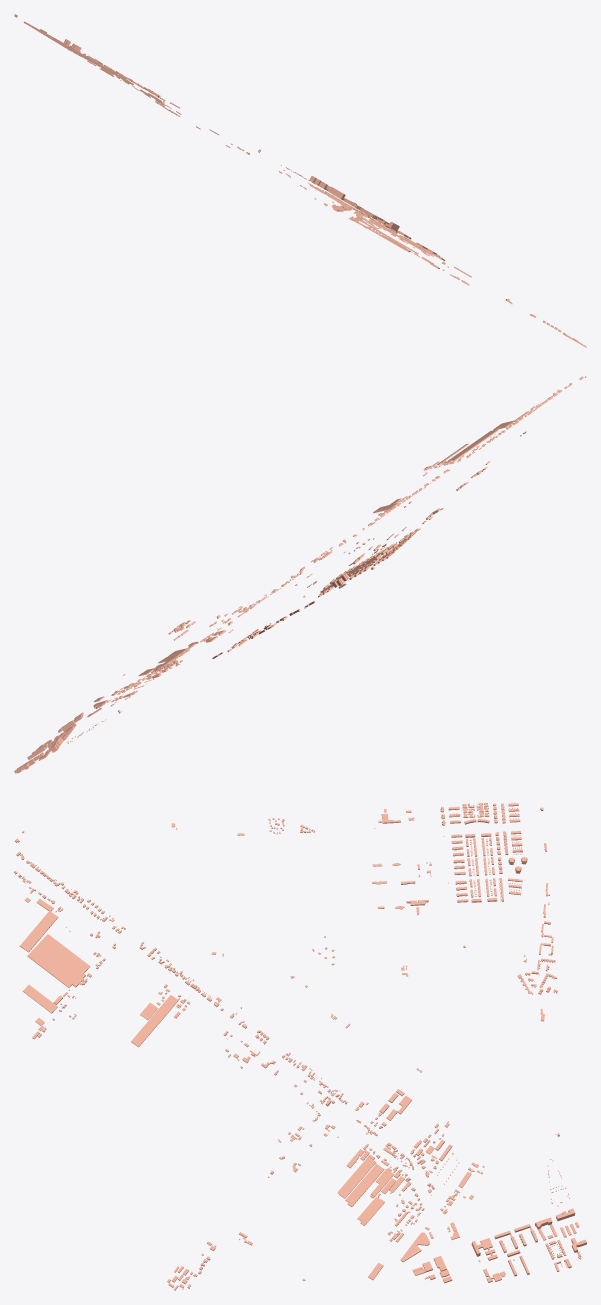
3 views of the same model, one above another, from view 1: azimuth 30°, elevation 25°; view 2: azimuth 150°, elevation 25°; view 3: azimuth 270°, elevation 25° (orthographic). The views are drawn at different scales.
Bounding box in the file's own units: 2038 × 1481 × 2570.
